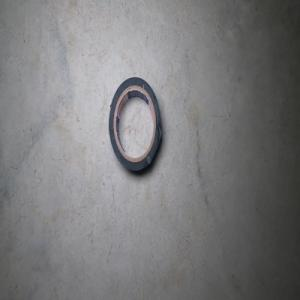Tape: (108, 76, 162, 175)
